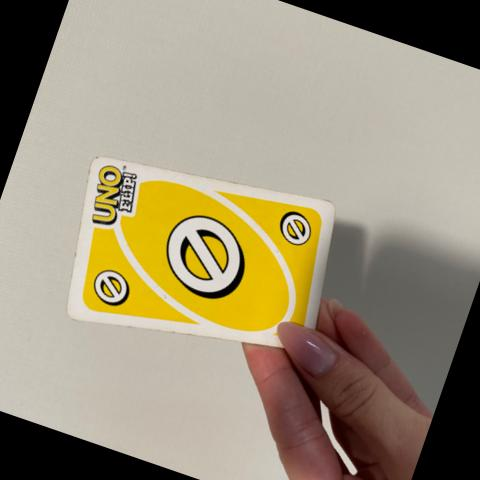lyellowskip-20: (75, 248, 150, 323)
